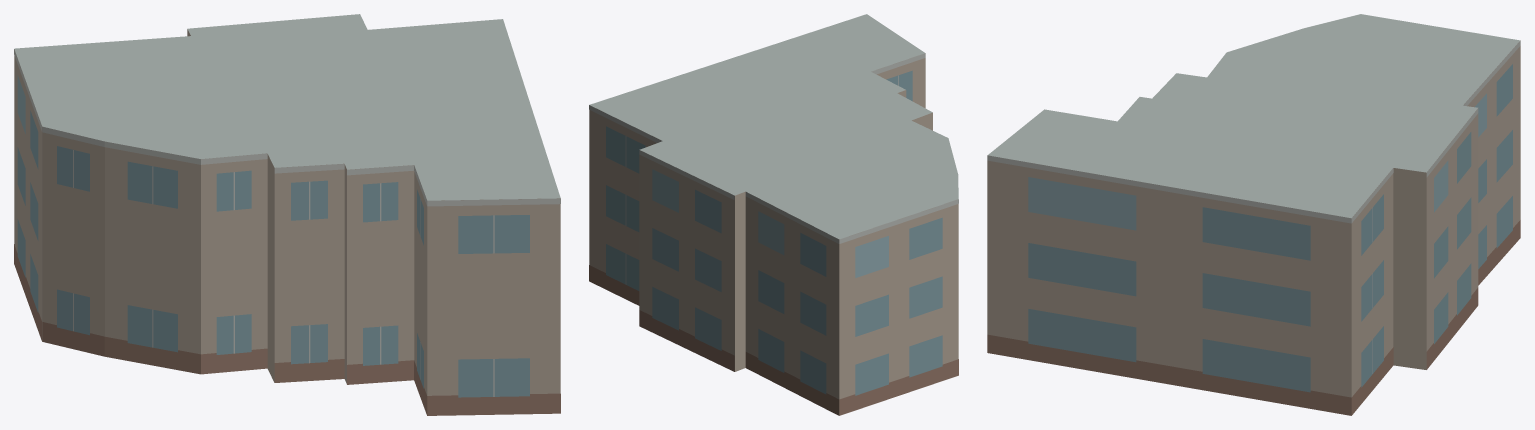
The model's file is survey-upis-32814289.glb.
The picture shows the model from 3 angles, left to right: view 1: azimuth 30°, elevation 25°; view 2: azimuth 150°, elevation 25°; view 3: azimuth 270°, elevation 25°; orthographic projection. The views are drawn at different scales.
Visible parts, largest first — view 1: survey-upis-32814289.tmp; view 2: survey-upis-32814289.tmp; view 3: survey-upis-32814289.tmp.
Boxes of the visible parts, x1,y1,x2,y2 form: survey-upis-32814289.tmp: [14, 14, 560, 415]; survey-upis-32814289.tmp: [589, 14, 958, 415]; survey-upis-32814289.tmp: [987, 14, 1520, 415].
Size of the model in its own units: 20.29 by 9.15 by 22.38.
